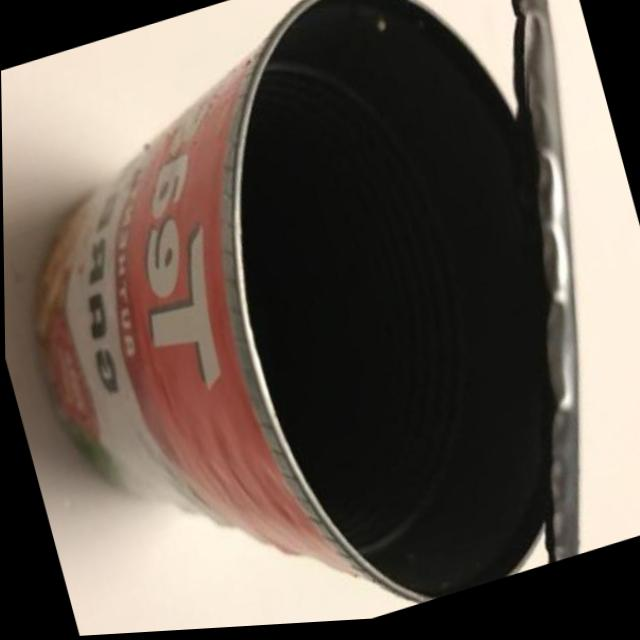metal: (2, 0, 639, 639)
